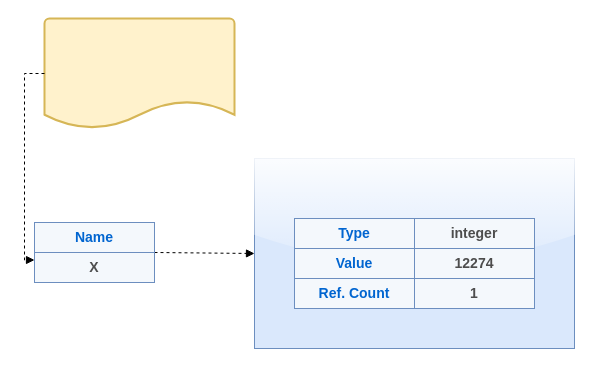
Some shapes in this 592 by 366 pixel diagram are drawn without their labels. Each missing label, with the box of its shape:
Base Structure: (254, 158, 574, 348)
x = 12274: (43, 17, 235, 129)
